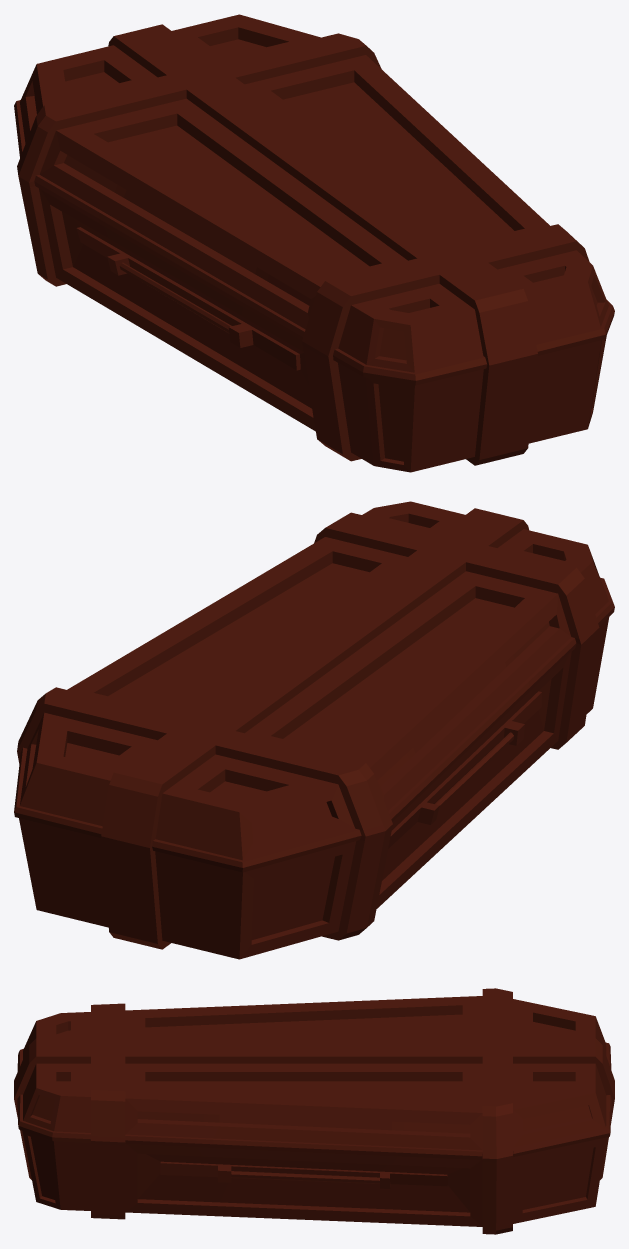
Rendered from Casket_closed 1.fbx.
The picture shows the model from 3 angles, top to bottom: view 1: azimuth 30°, elevation 25°; view 2: azimuth 150°, elevation 25°; view 3: azimuth 270°, elevation 25°; orthographic projection. The views are drawn at different scales.
Visible parts, largest first — view 1: Casket_closed; view 2: Casket_closed; view 3: Casket_closed.
Part boxes in pixels (x1=…): Casket_closed: x1=14, y1=14, x2=614, y2=472; Casket_closed: x1=14, y1=501, x2=614, y2=959; Casket_closed: x1=14, y1=988, x2=614, y2=1234.
Size of the model in its own units: 88.04 by 37.85 by 161.
